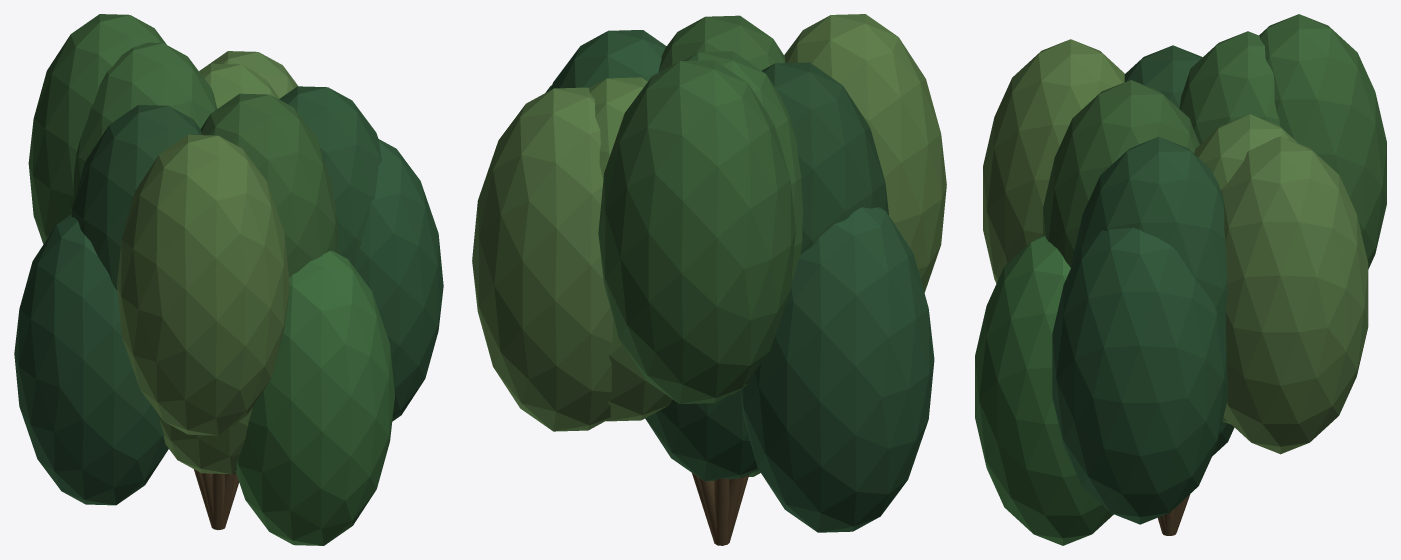
Rendered from shrub-spreading.near.glb.
3 renders of one model, left to right at view 1: azimuth 30°, elevation 25°; view 2: azimuth 150°, elevation 25°; view 3: azimuth 270°, elevation 25°, orthographic. The views are drawn at different scales.
Parts seen in each view (by area): view 1: foliage, wood; view 2: foliage, wood; view 3: foliage, wood.
Part boxes in pixels (x1=…): foliage: x1=14, y1=14, x2=443, y2=545; wood: x1=194, y1=469, x2=238, y2=529; foliage: x1=472, y1=14, x2=946, y2=532; wood: x1=692, y1=473, x2=748, y2=545; foliage: x1=975, y1=14, x2=1386, y2=545; wood: x1=1158, y1=494, x2=1190, y2=535.
Bounding box in the file's own units: 2.02 × 2.4 × 1.82.
